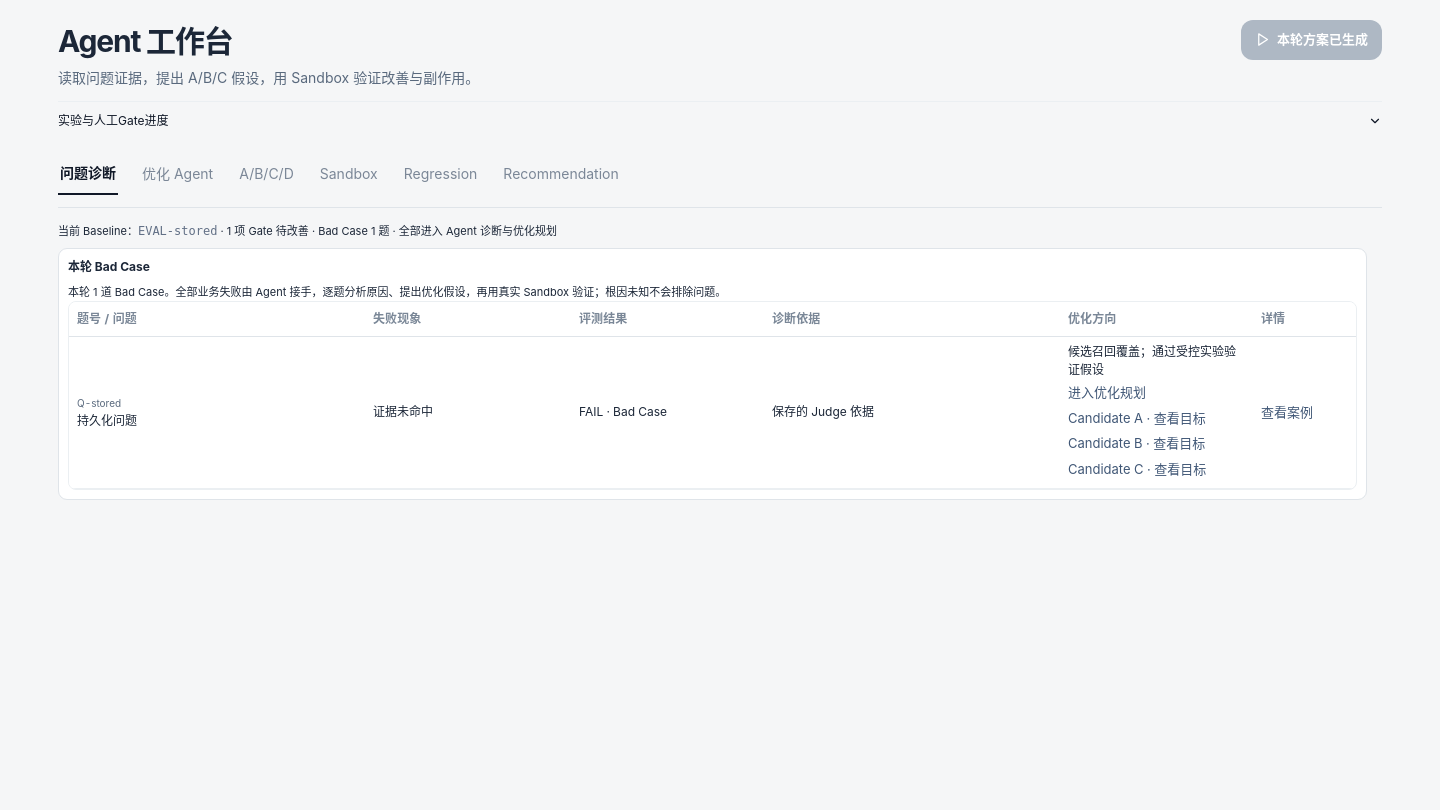
Test case: keeps Agent diagnosis source-backed, lists saved hypotheses once, and restores the experiment plan and six Sandbox decision rows
The width and height of the screenshot is (1440, 810).
Expected: the element with class "diagnosis-list" shows "候选召回覆盖", [1068,344,1236,378]
Expected: the element with class "diagnosis-list" shows "Candidate A", [1068,406,1206,431]
Click the button "优化 Agent".
click(178, 174)  # box [140,152,215,195]
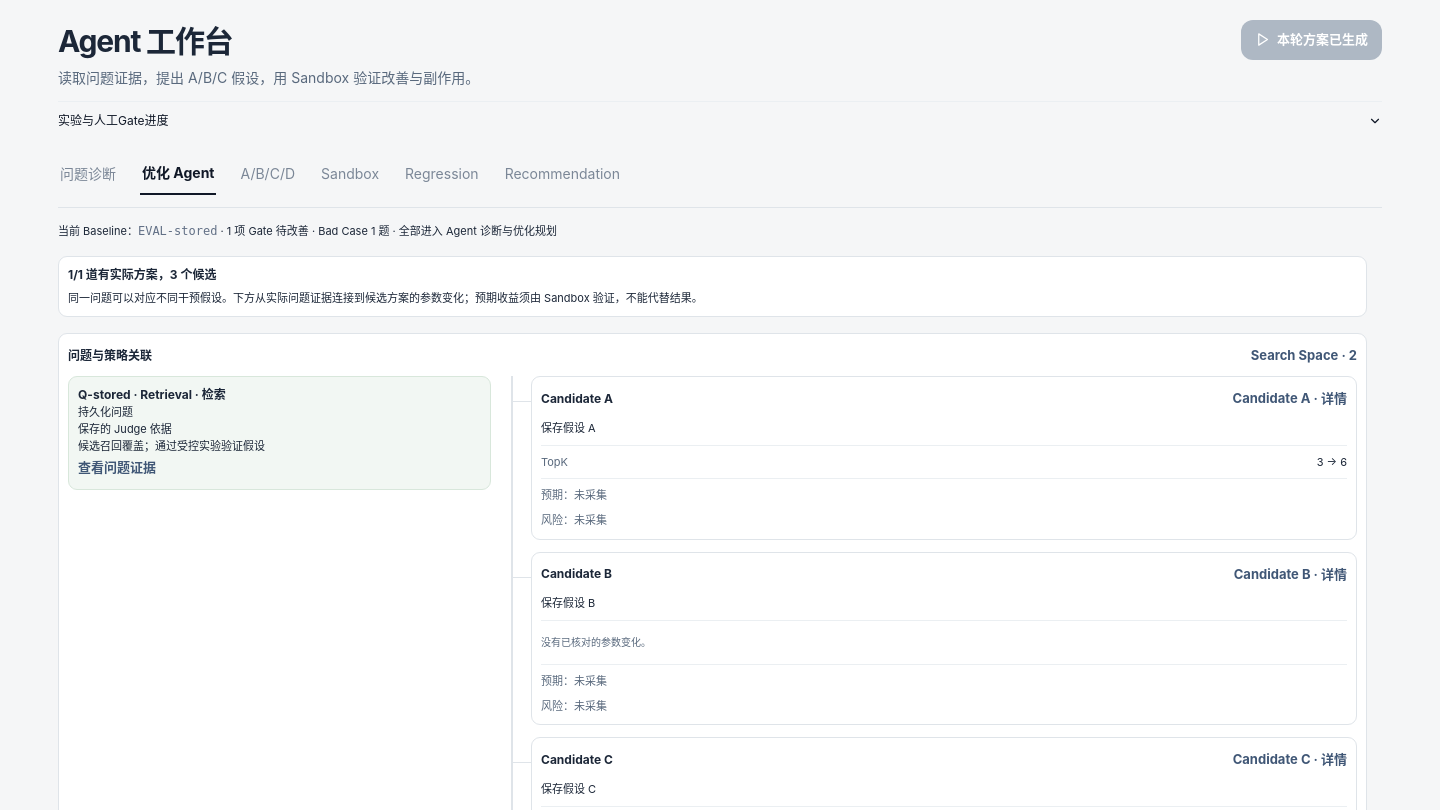
Expected: the text "保存假设 A" is shown, [541,421,596,435]
Expected: the text "Search Space · 2" is shown, [1251,343,1357,368]
Click the button "A/B/C/D".
click(268, 174)  # box [238,152,297,195]
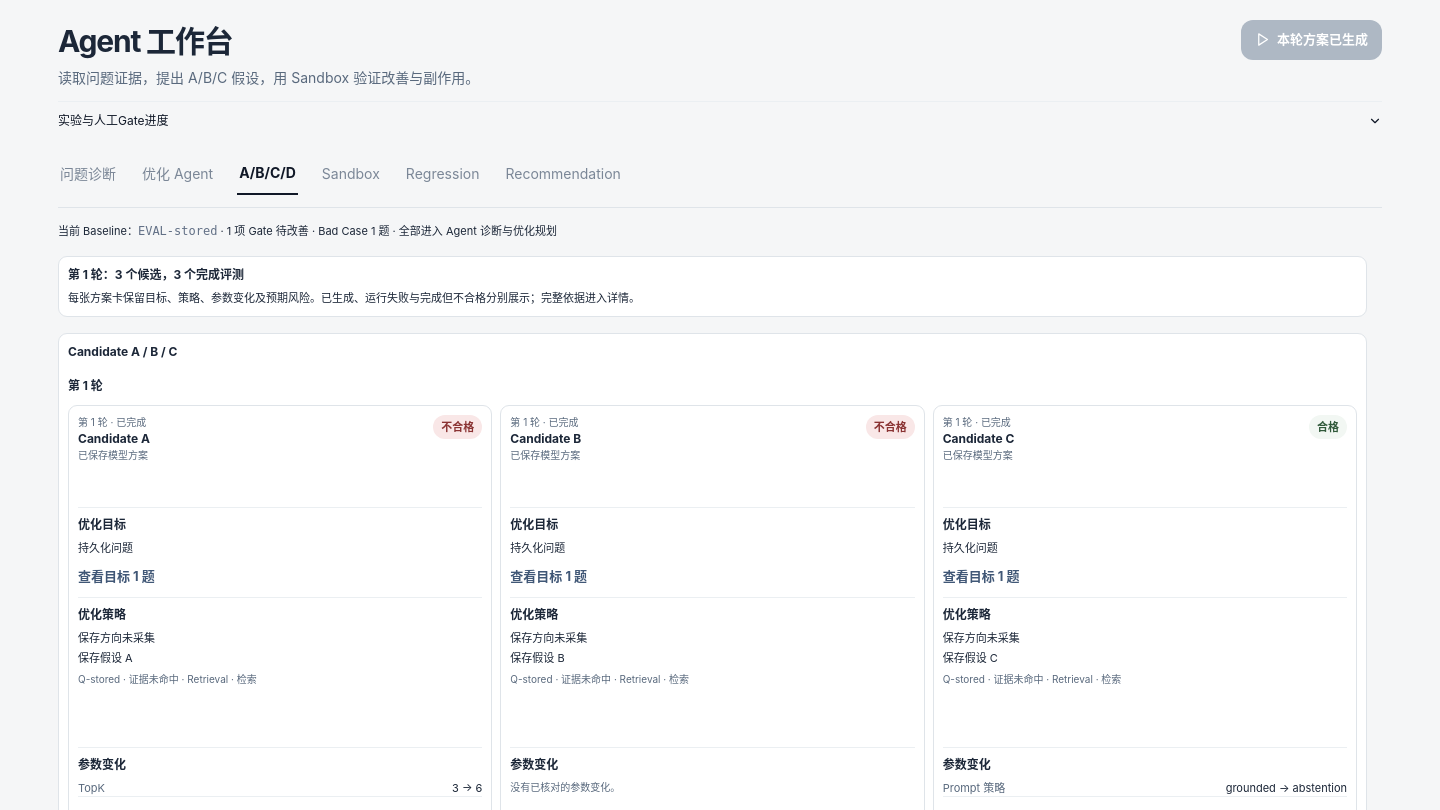
Expected: the element with class "candidate-card" shows "持久化问题", [78,541,133,555]
Click the button "Sandbox".
click(351, 174)  # box [320,152,382,195]
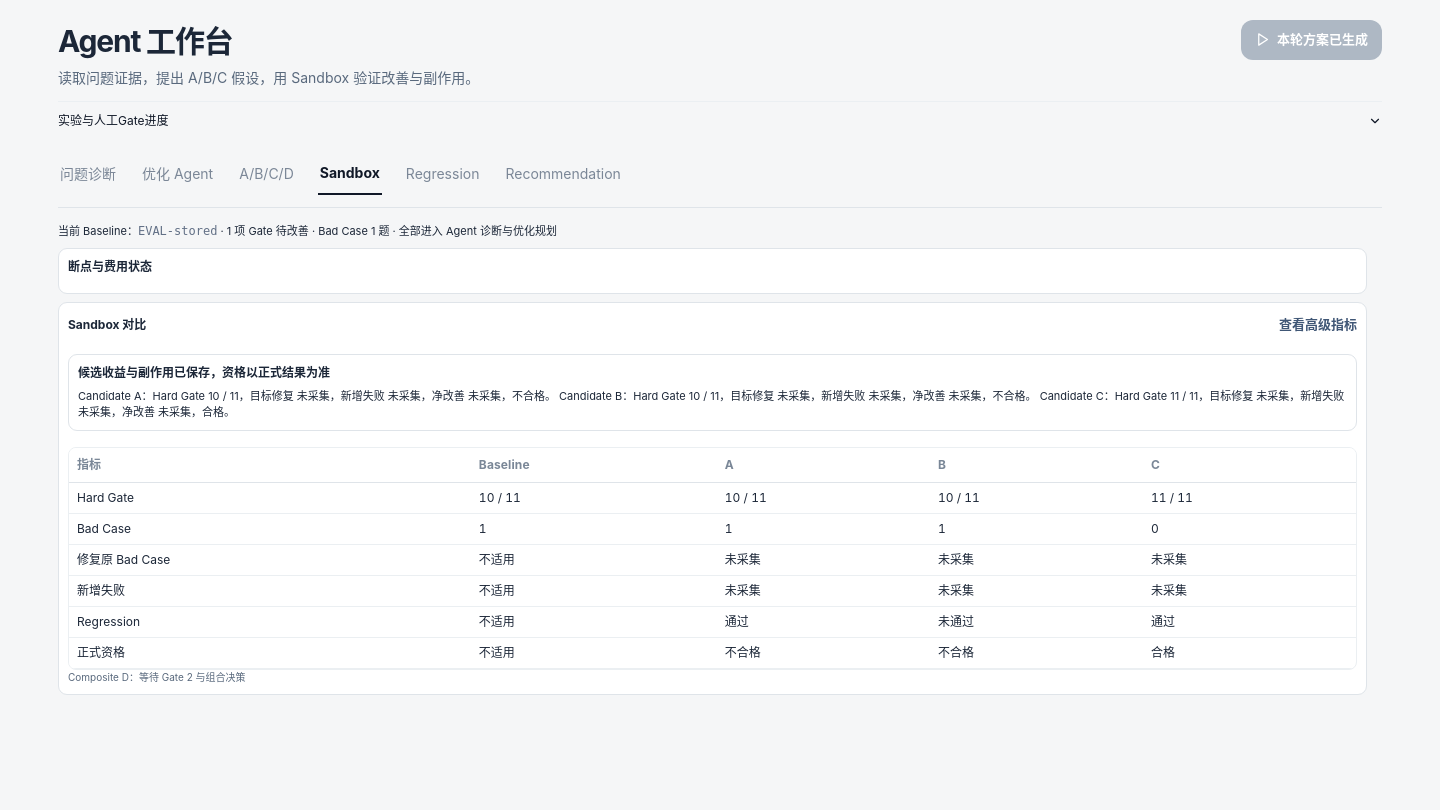
Expected: the text "Input Tokens" is not shown
Click the button "查看高级指标".
click(1318, 325)  # box [1279,312,1357,338]
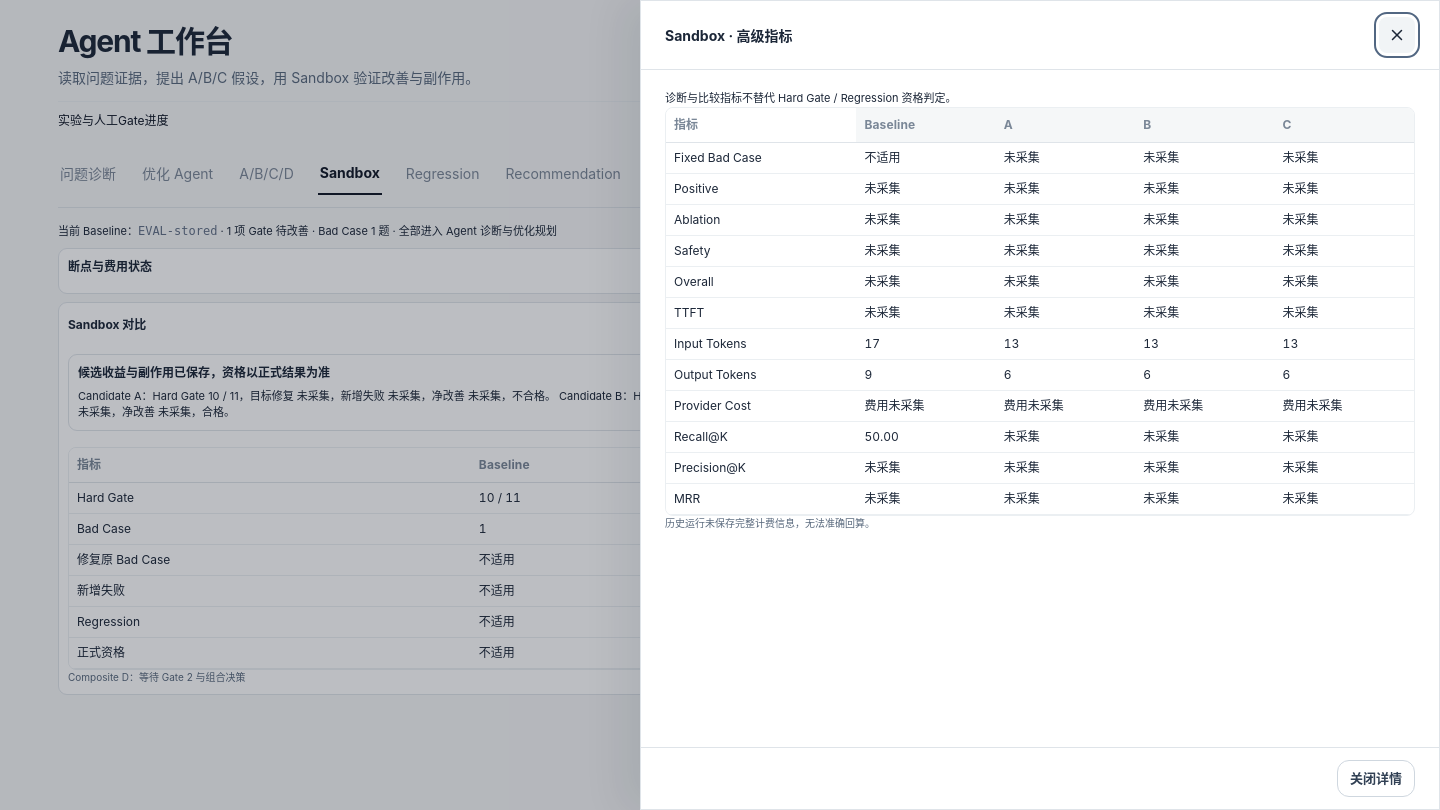
Expected: the dialog shows "Input Tokens", [674,336,747,350]
